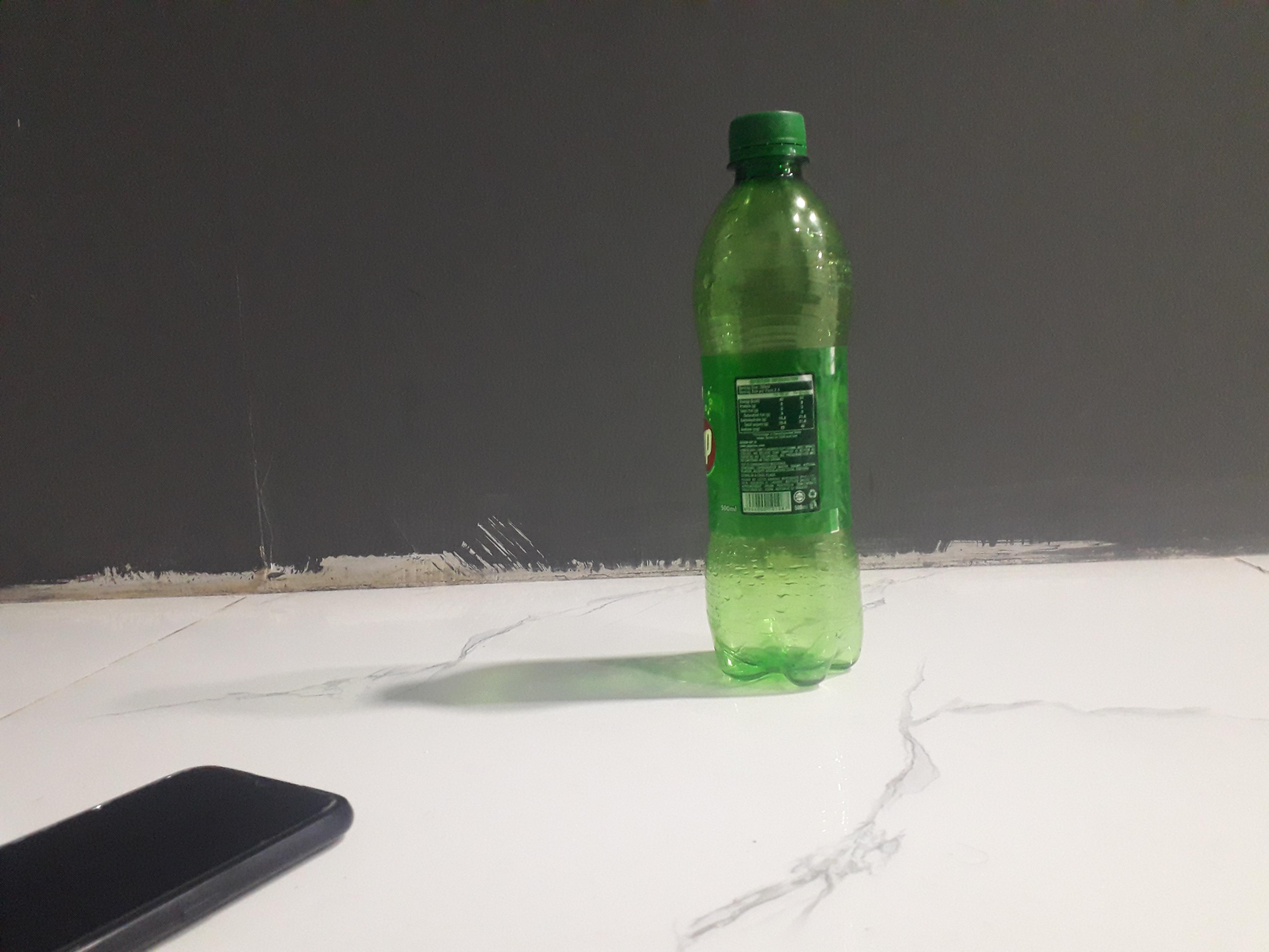bottle-plastic: (694, 104, 866, 692)
